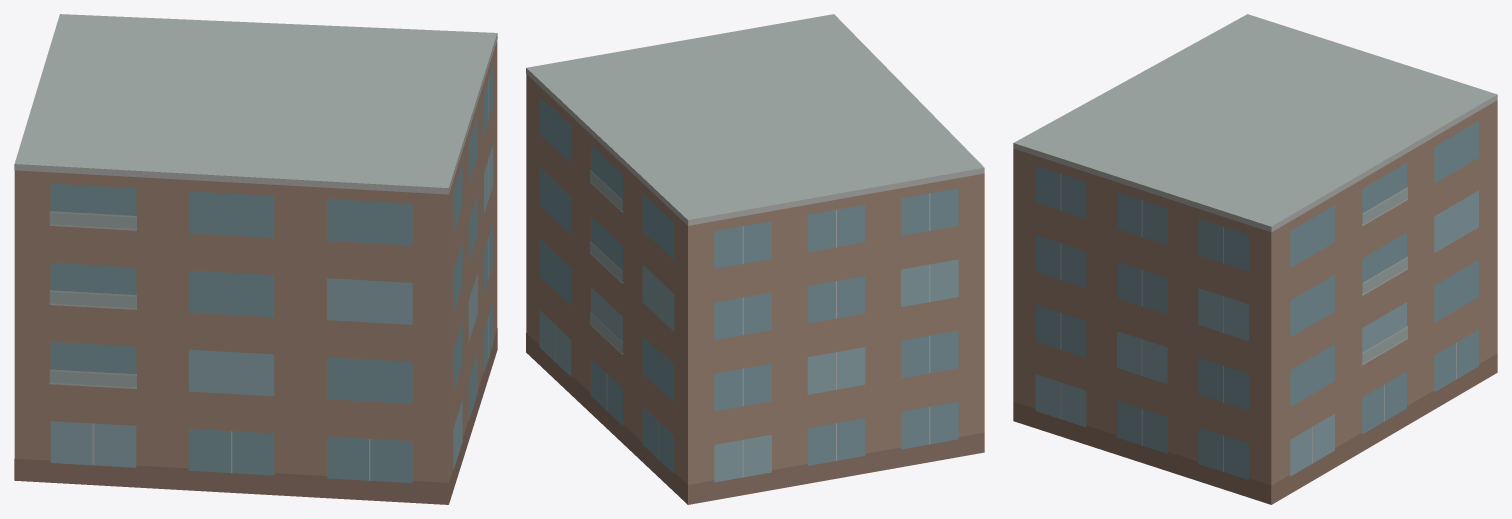
Rendered from survey-upis-32574821.glb.
The picture shows the model from 3 angles, left to right: view 1: azimuth 30°, elevation 25°; view 2: azimuth 150°, elevation 25°; view 3: azimuth 270°, elevation 25°; orthographic projection. The views are drawn at different scales.
Visible parts, largest first — view 1: survey-upis-32574821.tmp; view 2: survey-upis-32574821.tmp; view 3: survey-upis-32574821.tmp.
Part boxes in pixels (<box>): survey-upis-32574821.tmp: <box>14,14,497,504</box>; survey-upis-32574821.tmp: <box>526,14,984,504</box>; survey-upis-32574821.tmp: <box>1013,14,1497,504</box>.
Size of the model in its own units: 20.03 by 12.2 by 19.26.
